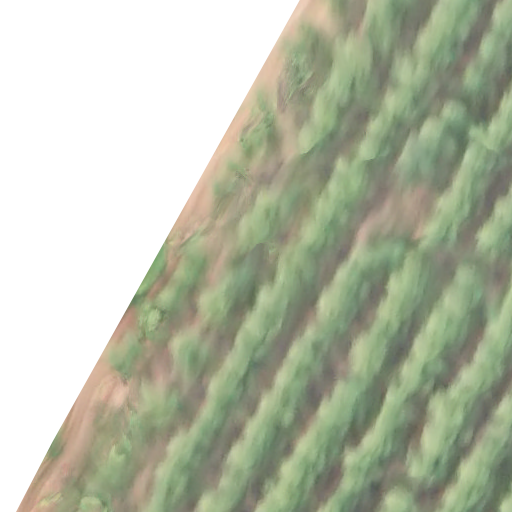eucalipto: (328, 159, 378, 204), (316, 287, 362, 333), (415, 27, 464, 69), (169, 336, 209, 385), (390, 53, 439, 93), (333, 36, 376, 81), (349, 334, 388, 378), (366, 5, 401, 52), (257, 288, 300, 326), (287, 336, 326, 376), (279, 251, 318, 290), (461, 142, 501, 179), (385, 274, 427, 308), (196, 291, 235, 327), (167, 435, 207, 470), (306, 420, 346, 455), (264, 480, 307, 512), (335, 267, 373, 303), (474, 222, 512, 258), (263, 395, 300, 431), (426, 309, 463, 345), (439, 486, 494, 510), (242, 309, 283, 341), (457, 365, 496, 398), (344, 454, 384, 486), (227, 443, 268, 474), (420, 425, 456, 460), (380, 393, 416, 428), (209, 373, 246, 407), (376, 301, 413, 335), (384, 89, 422, 122), (316, 197, 354, 230), (408, 450, 445, 483), (434, 395, 467, 432), (332, 381, 370, 413), (438, 190, 475, 222), (279, 459, 316, 491), (245, 421, 280, 454), (401, 254, 437, 286), (273, 364, 310, 395), (318, 400, 355, 431), (434, 1, 479, 26), (303, 222, 338, 254), (379, 483, 419, 511), (293, 437, 330, 467), (235, 333, 268, 366), (405, 357, 437, 391), (224, 272, 256, 305), (442, 287, 475, 319), (416, 115, 445, 151), (411, 332, 447, 361), (472, 352, 508, 381), (363, 430, 398, 459), (457, 463, 493, 491), (195, 490, 244, 510), (479, 34, 510, 65), (439, 100, 469, 132), (219, 470, 253, 497), (482, 422, 512, 451), (473, 441, 505, 468), (481, 318, 512, 345), (453, 263, 480, 293), (201, 403, 230, 430), (463, 65, 489, 95), (492, 1, 512, 32)
